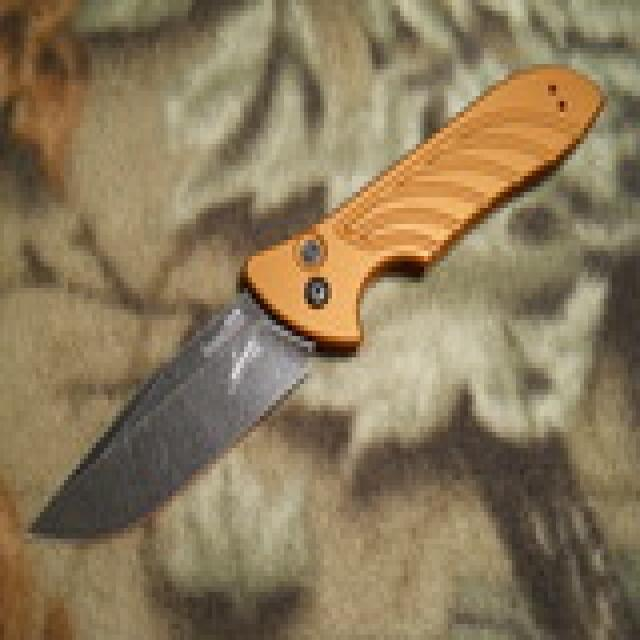Knife: (27, 58, 606, 562)
